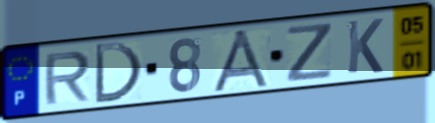8: (167, 36, 204, 94)
A: (209, 27, 275, 94)
D: (92, 41, 146, 106)
K: (345, 16, 386, 77)
R: (42, 49, 93, 108)
Z: (285, 21, 336, 85)
